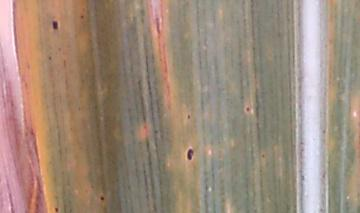tarspot: (185, 147, 195, 162), (51, 20, 59, 32), (244, 104, 251, 113), (186, 113, 192, 121), (47, 55, 53, 62), (99, 195, 105, 202), (79, 14, 85, 20), (53, 206, 58, 213), (261, 153, 266, 159)
